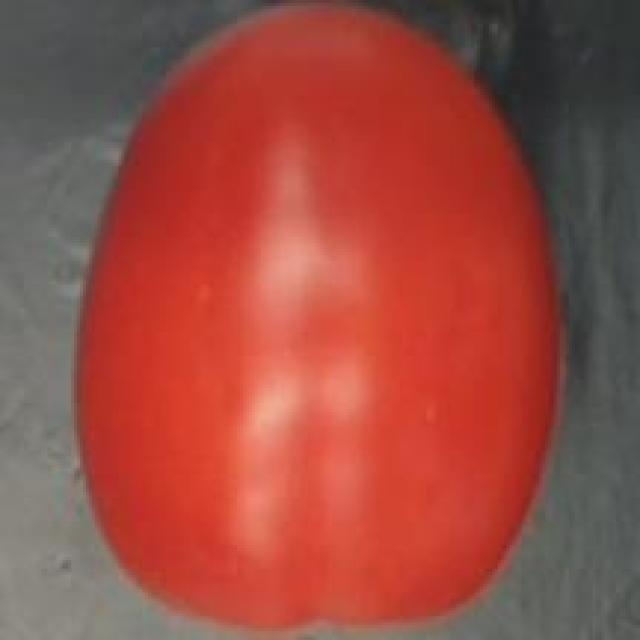ripe tomato: (65, 0, 575, 640)
